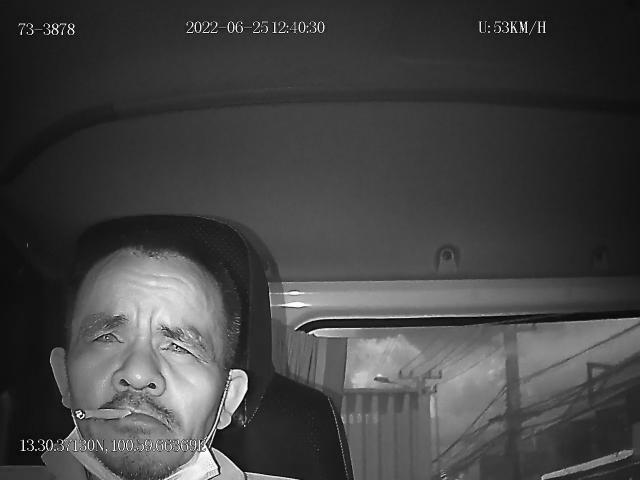SafeDriving: (154, 324, 202, 364), (83, 318, 128, 354)
Smoking: (74, 406, 130, 422)
